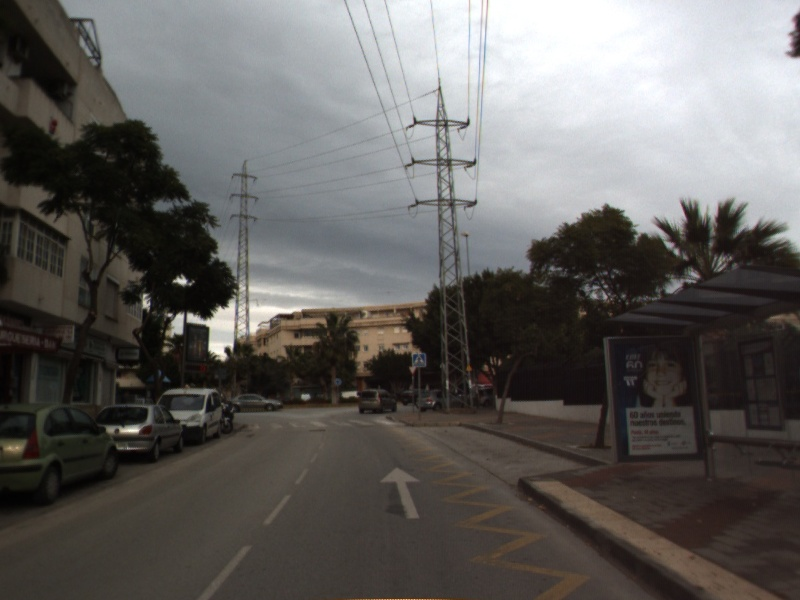STRAIGHT: (377, 465, 423, 521)
